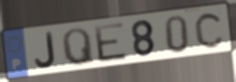0: (162, 14, 191, 54)
8: (130, 19, 158, 58)
C: (193, 11, 226, 50)
E: (92, 21, 130, 64)
J: (33, 30, 58, 70)
Q: (60, 26, 97, 67)
